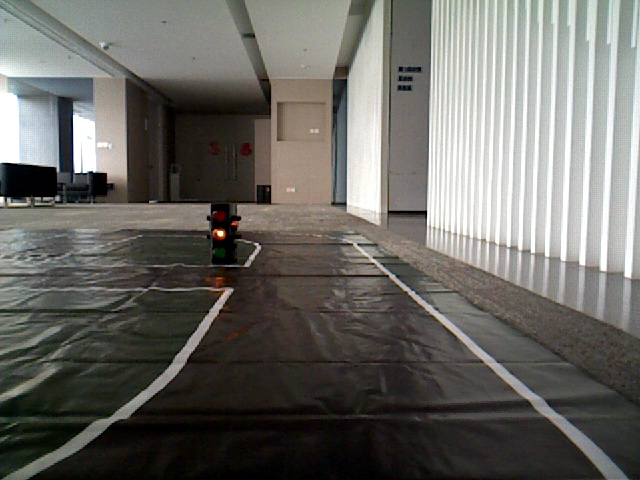yellow: (208, 201, 232, 257)
